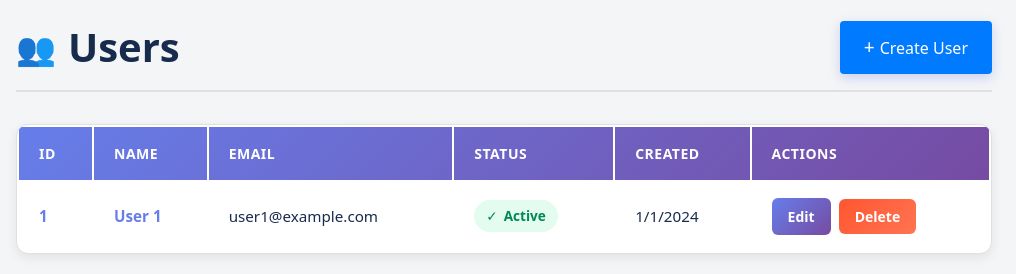
Scenario: Users - Additional Coverage › should handle delete error
Expected: the link "User 1" is shown, [114,206,162,226]
What coordinates should you click on to do the following:
click the button "Delete"
I would click on:
 (877, 216)
Its box is [839,199,916,234].
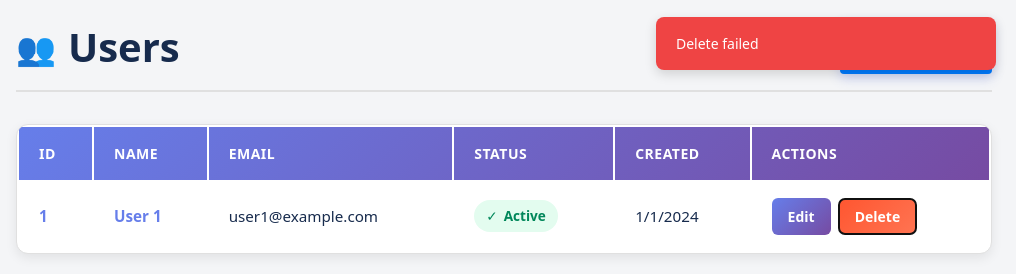
Expected: the text "Delete failed" is shown, [656,17,996,70]
